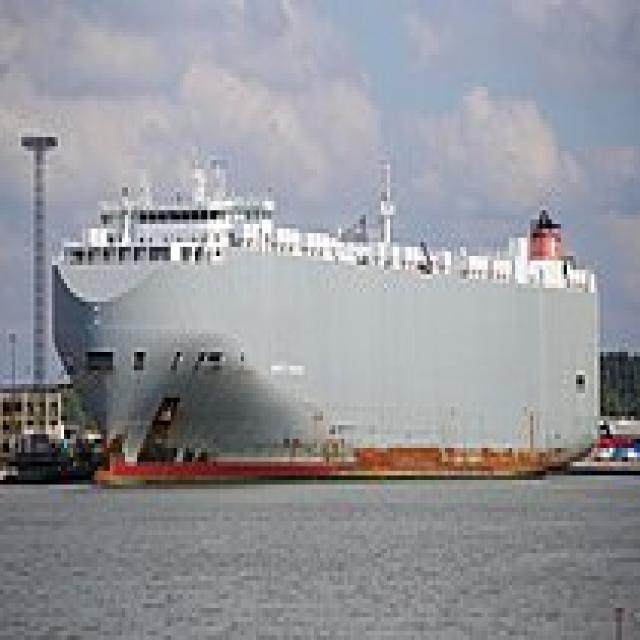Carrier: (46, 142, 600, 489)
